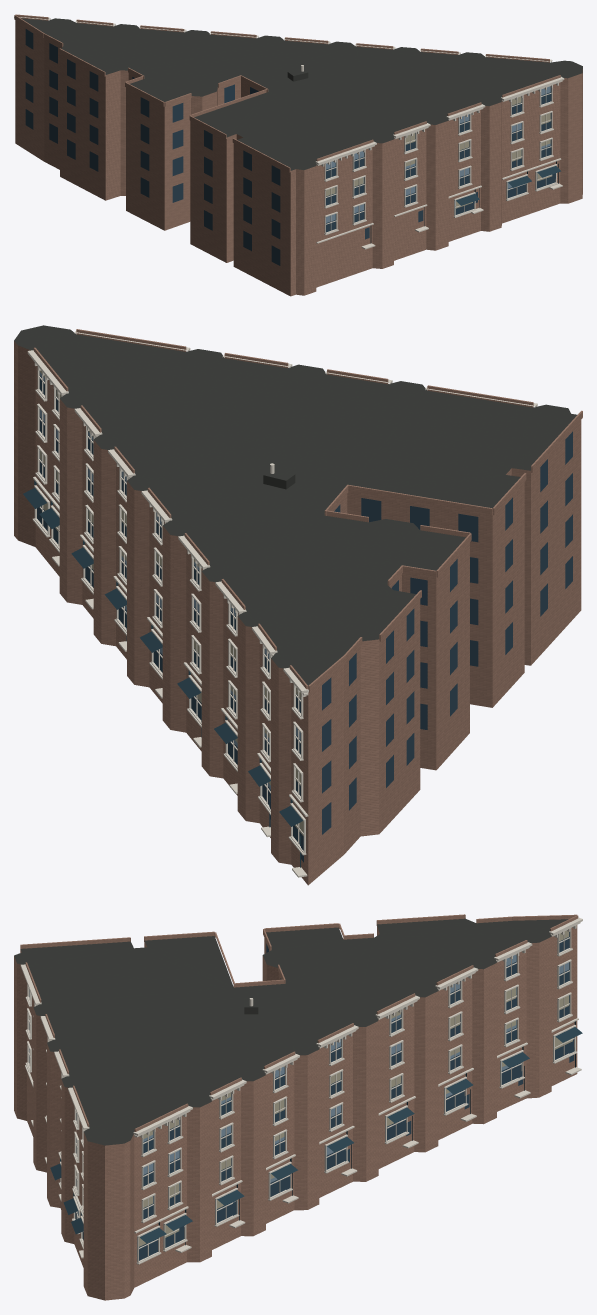
The picture shows the model from 3 angles, top to bottom: view 1: azimuth 30°, elevation 25°; view 2: azimuth 150°, elevation 25°; view 3: azimuth 270°, elevation 25°; orthographic projection. The views are drawn at different scales.
Parts seen in each view (by area): view 1: Footprint 0 / surface 2, Footprint 0 / surface 1, Inset glazing, Cornices and window frames, Facade bay volumes, Interior blind variation, Sky reflection panels, Storefronts and doors; view 2: Footprint 0 / surface 2, Footprint 0 / surface 1, Cornices and window frames, Inset glazing, Facade bay volumes, Storefronts and doors, Interior blind variation; view 3: Footprint 0 / surface 2, Footprint 0 / surface 1, Cornices and window frames, Inset glazing, Facade bay volumes, Storefronts and doors, Interior blind variation, Sky reflection panels.
Boxes of the visible parts, x1,y1,x2,y2 form: Footprint 0 / surface 2: [15, 20, 582, 296]; Footprint 0 / surface 1: [21, 18, 582, 170]; Inset glazing: [25, 29, 555, 265]; Cornices and window frames: [14, 17, 564, 249]; Facade bay volumes: [14, 14, 560, 172]; Interior blind variation: [326, 96, 552, 208]; Sky reflection panels: [326, 86, 550, 222]; Storefronts and doors: [370, 161, 560, 243]; Footprint 0 / surface 2: [14, 341, 581, 885]; Footprint 0 / surface 1: [14, 325, 577, 685]; Cornices and window frames: [27, 330, 537, 877]; Inset glazing: [37, 371, 572, 862]; Facade bay volumes: [33, 329, 582, 692]; Storefronts and doors: [23, 480, 302, 867]; Interior blind variation: [40, 370, 303, 835]; Footprint 0 / surface 2: [14, 925, 577, 1300]; Footprint 0 / surface 1: [14, 918, 568, 1145]; Cornices and window frames: [20, 917, 582, 1264]; Inset glazing: [29, 932, 574, 1260]; Facade bay volumes: [20, 914, 578, 1131]; Storefronts and doors: [50, 1021, 582, 1245]; Interior blind variation: [29, 930, 572, 1246]; Sky reflection panels: [29, 954, 568, 1214].
Bounding box in the file's own units: 45.93 × 15.89 × 48.55.
